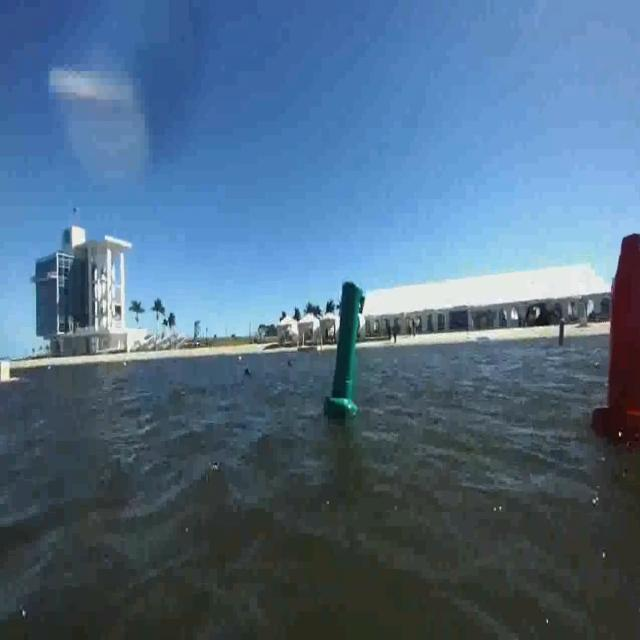green-column-buoy: (330, 277, 366, 420)
red-column-buoy: (594, 226, 640, 444)
